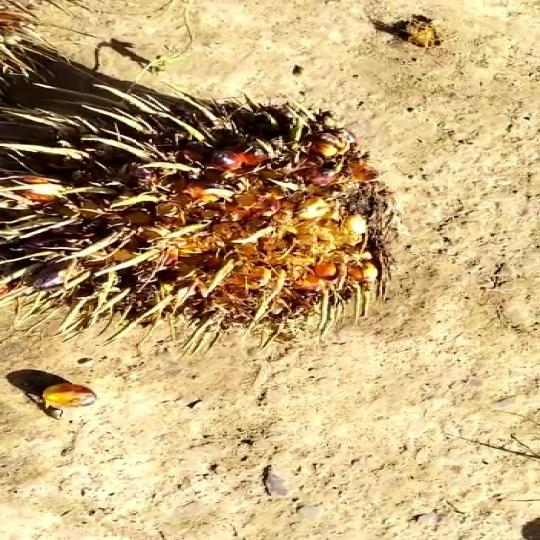terlalu masak: (0, 51, 445, 359)
